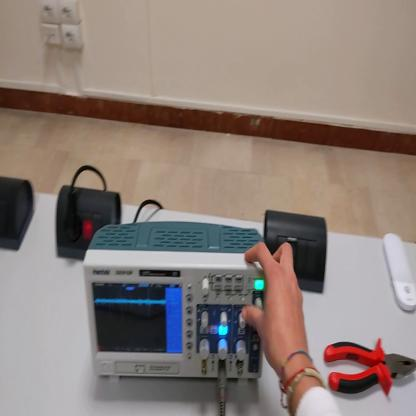hand: (238, 224, 310, 374)
oscilloscope: (80, 220, 269, 390)
pliers: (326, 331, 416, 399)
socket: (53, 183, 124, 265), (1, 173, 36, 255)
